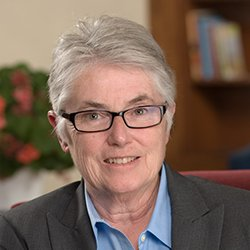bare: (64, 124, 167, 191)
